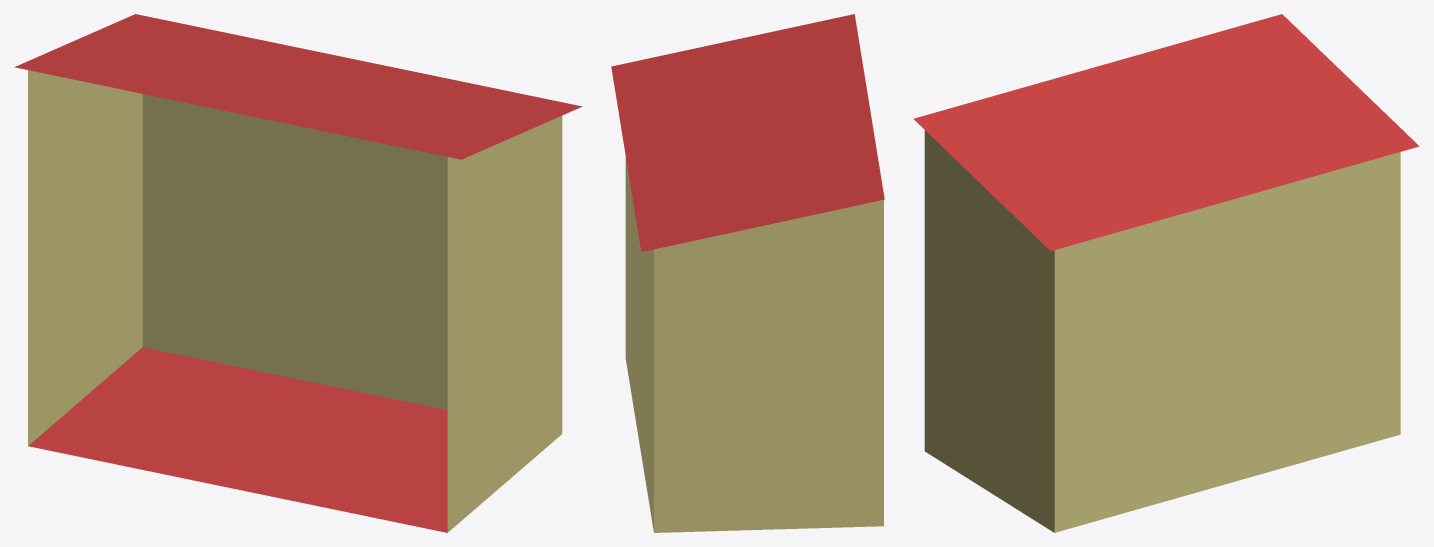
3 renders of one model, left to right at view 1: azimuth 30°, elevation 25°; view 2: azimuth 150°, elevation 25°; view 3: azimuth 270°, elevation 25°, orthographic. The views are drawn at different scales.
Size of the model in its own units: 8.23 by 9.21 by 6.74.
